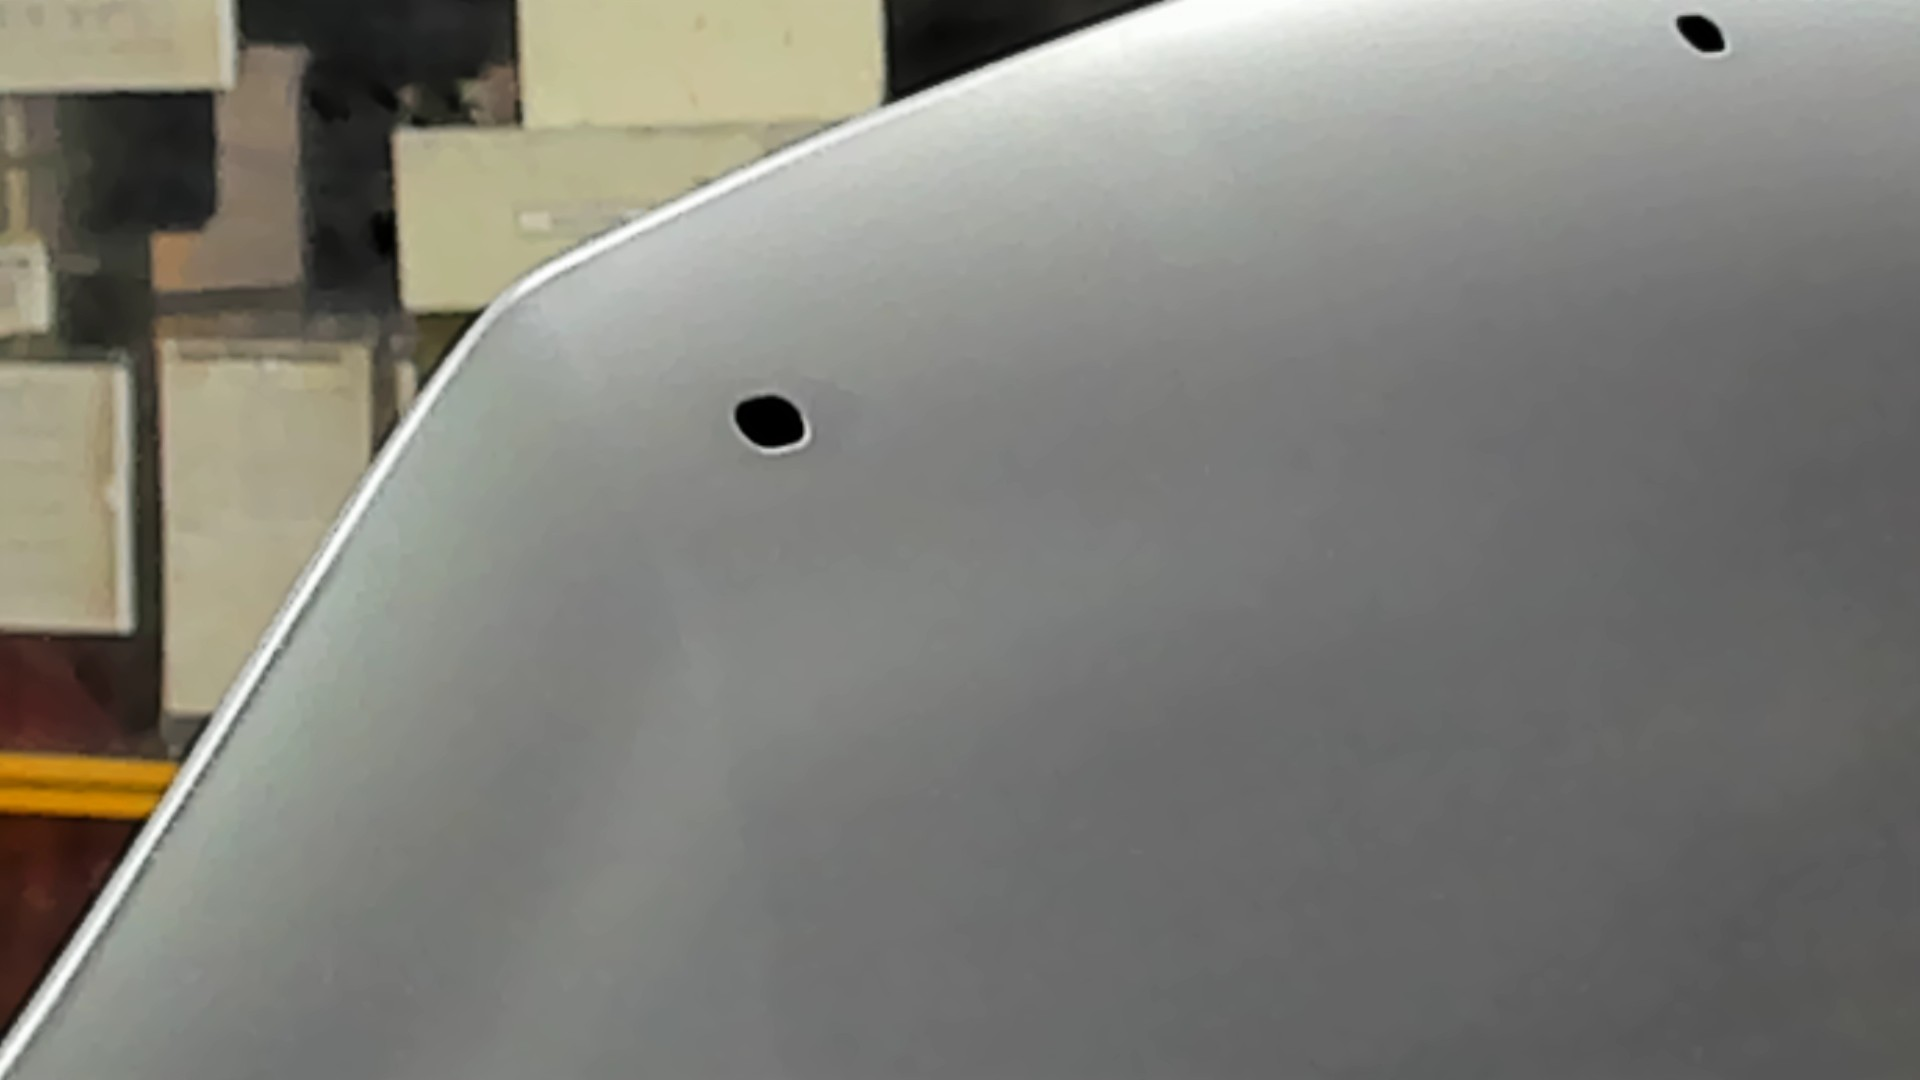amorfo: (727, 394, 815, 459), (1669, 7, 1730, 63)
capo: (910, 135, 1920, 1080)
